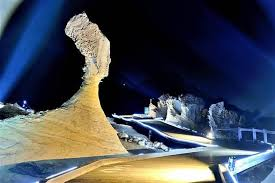yehliu: (50, 11, 127, 80)
